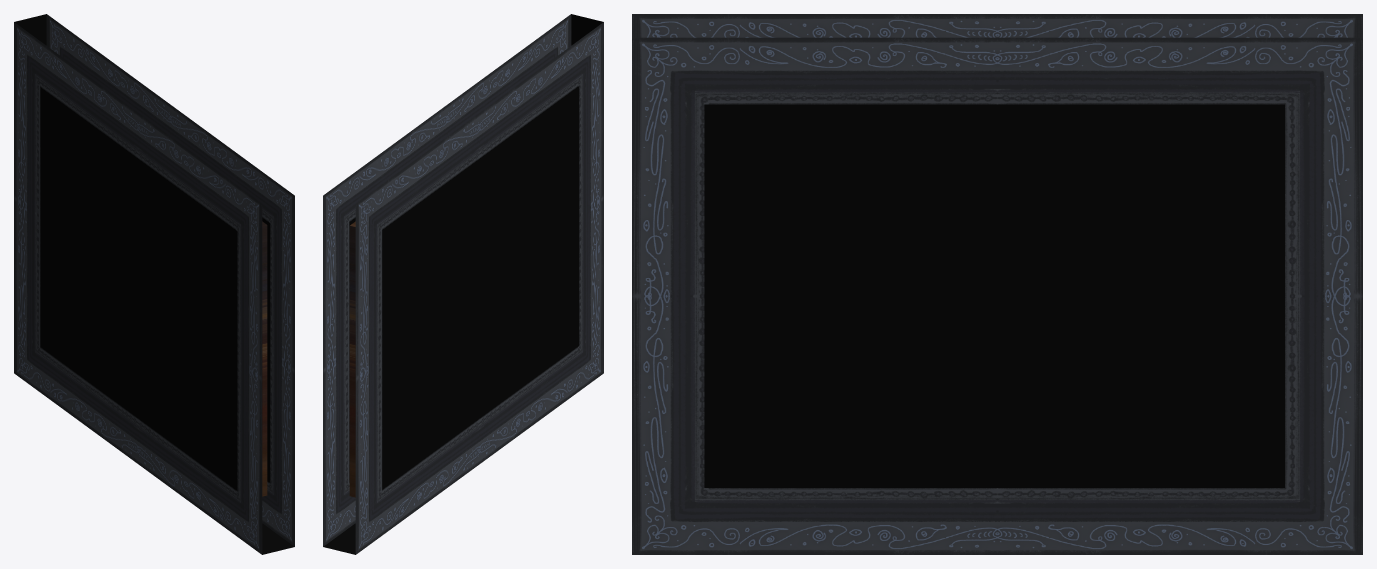
Rendered from AI_rat.glb.
3 views of the same model, side by side, from view 1: azimuth 30°, elevation 25°; view 2: azimuth 150°, elevation 25°; view 3: azimuth 270°, elevation 25° (orthographic). The views are drawn at different scales.
Parts seen in each view (by area): view 1: 2D_Bilderrahmen_dark, Plane; view 2: 2D_Bilderrahmen_dark, Plane; view 3: 2D_Bilderrahmen_dark.
Part boxes in pixels (x1,y1,x2,y2): 2D_Bilderrahmen_dark: (14, 14, 294, 554); Plane: (262, 221, 267, 496); 2D_Bilderrahmen_dark: (323, 14, 603, 554); Plane: (349, 221, 355, 497); 2D_Bilderrahmen_dark: (632, 14, 1362, 554).
Size of the model in its own units: 0.4417 by 4.53 by 5.8.
3 materials, 2 textured.
